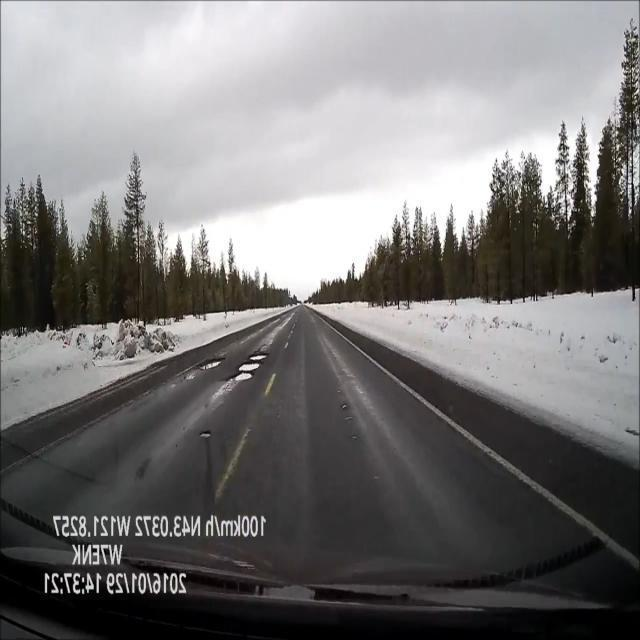pothole: (223, 344, 273, 395), (197, 331, 228, 379)
